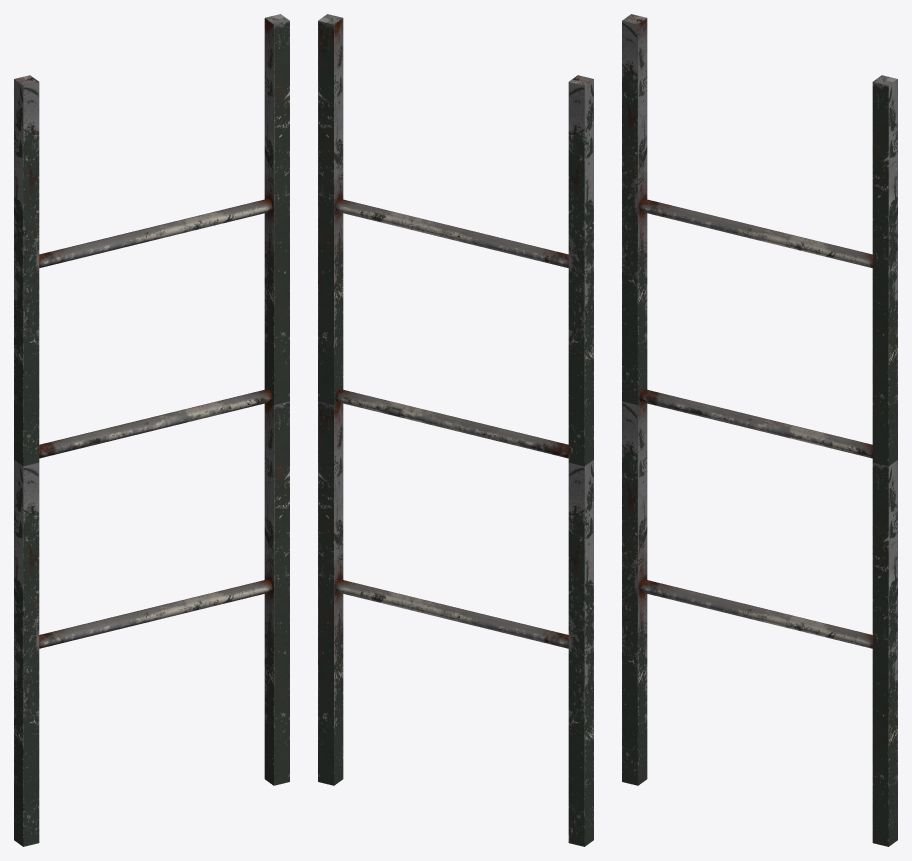
File: SM_Ladder_A.FBX
3 views of the same model, side by side, from view 1: azimuth 30°, elevation 25°; view 2: azimuth 150°, elevation 25°; view 3: azimuth 330°, elevation 25° (orthographic).
Visible parts, largest first — view 1: SM_Ladder_A_LOD0; view 2: SM_Ladder_A_LOD0; view 3: SM_Ladder_A_LOD0.
Boxes of the visible parts, x1=… form: SM_Ladder_A_LOD0: x1=14, y1=14, x2=289, y2=846; SM_Ladder_A_LOD0: x1=318, y1=14, x2=593, y2=846; SM_Ladder_A_LOD0: x1=622, y1=14, x2=897, y2=846.
Size of the model in its own units: 66 by 4 by 180.
